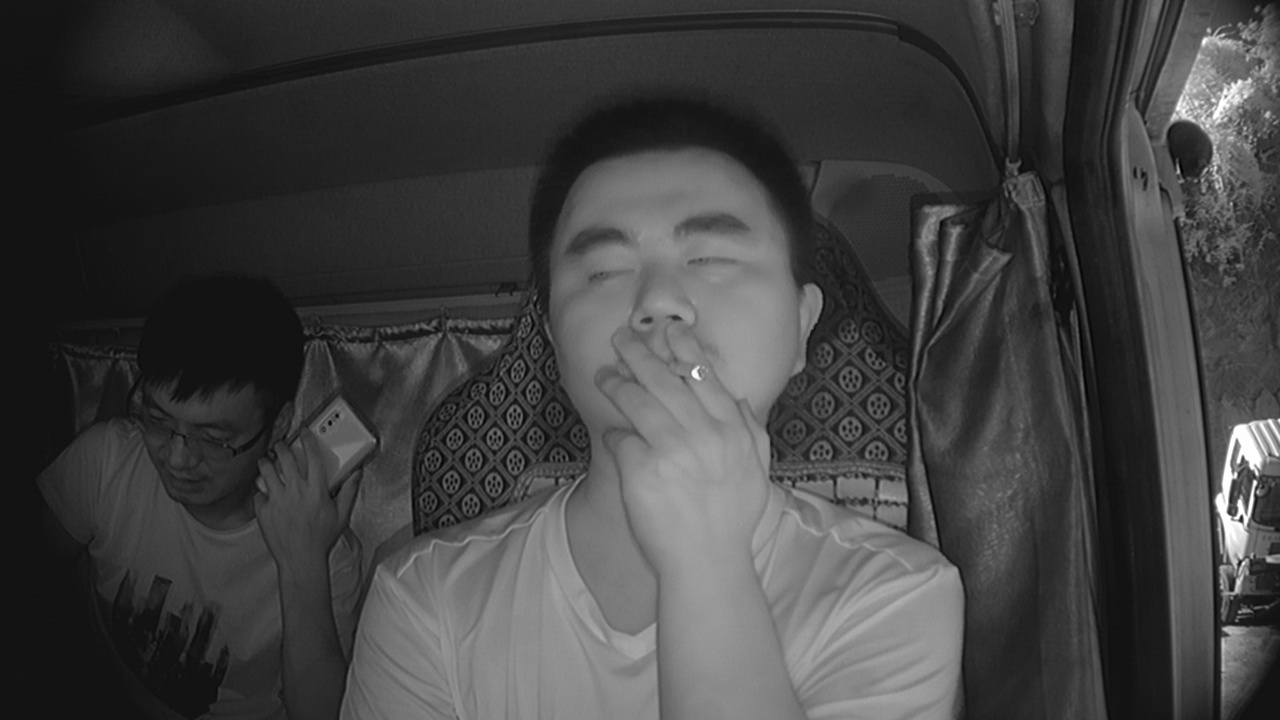hand: (598, 320, 770, 536)
